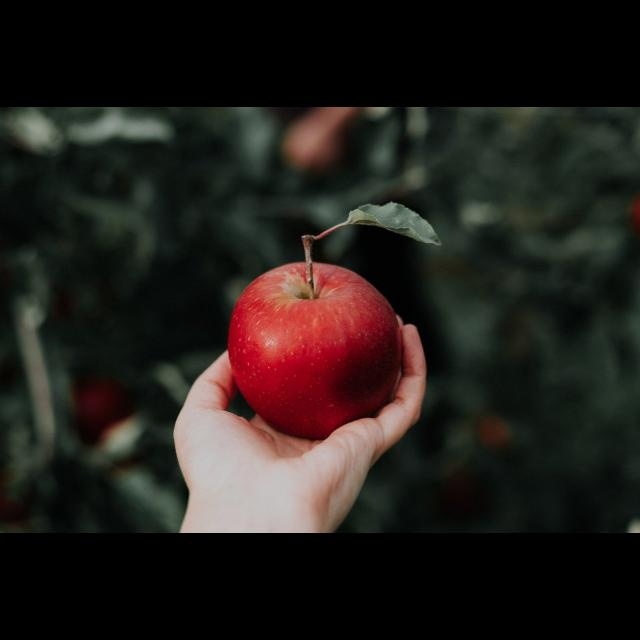Apel Segar: (217, 251, 427, 444)
